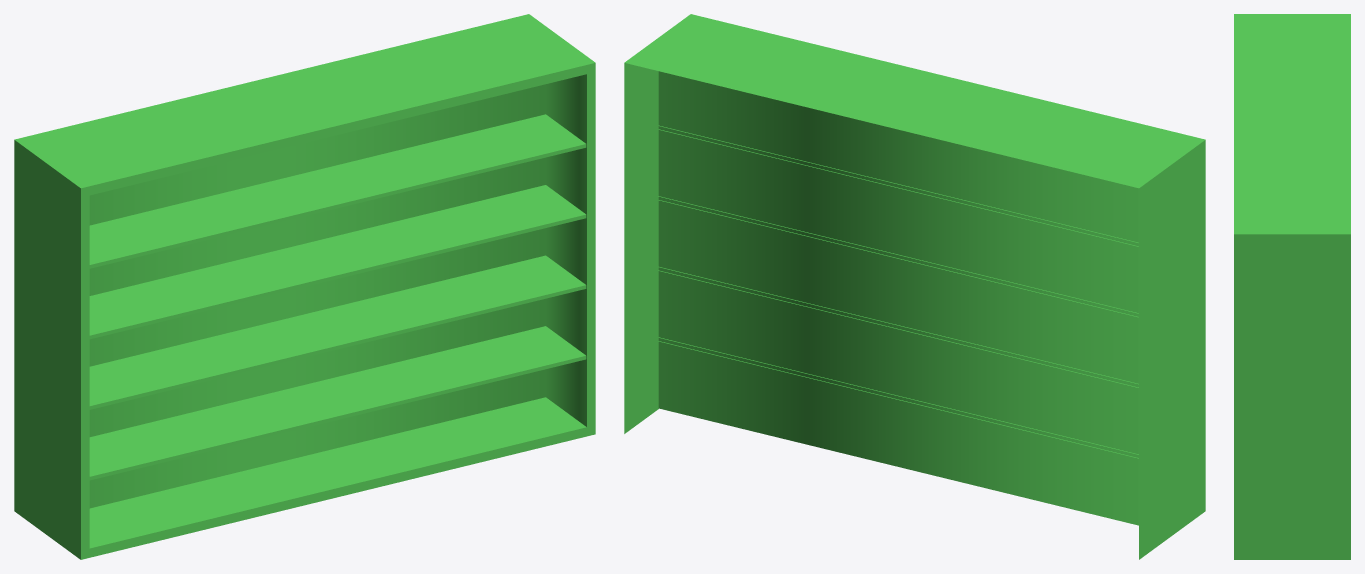
Rendered from SM_ClosetOrganizerTest.fbx.
The picture shows the model from 3 angles, left to right: view 1: azimuth 30°, elevation 25°; view 2: azimuth 150°, elevation 25°; view 3: azimuth 270°, elevation 25°; orthographic projection. The views are drawn at different scales.
Visible parts, largest first — view 1: ClosetOrganizerTest; view 2: ClosetOrganizerTest; view 3: ClosetOrganizerTest.
Part boxes in pixels (x1,y1,x2,y2): ClosetOrganizerTest: [14, 14, 595, 559]; ClosetOrganizerTest: [624, 14, 1205, 559]; ClosetOrganizerTest: [1234, 14, 1350, 559].
Size of the model in its own units: 290 by 200 by 65.
